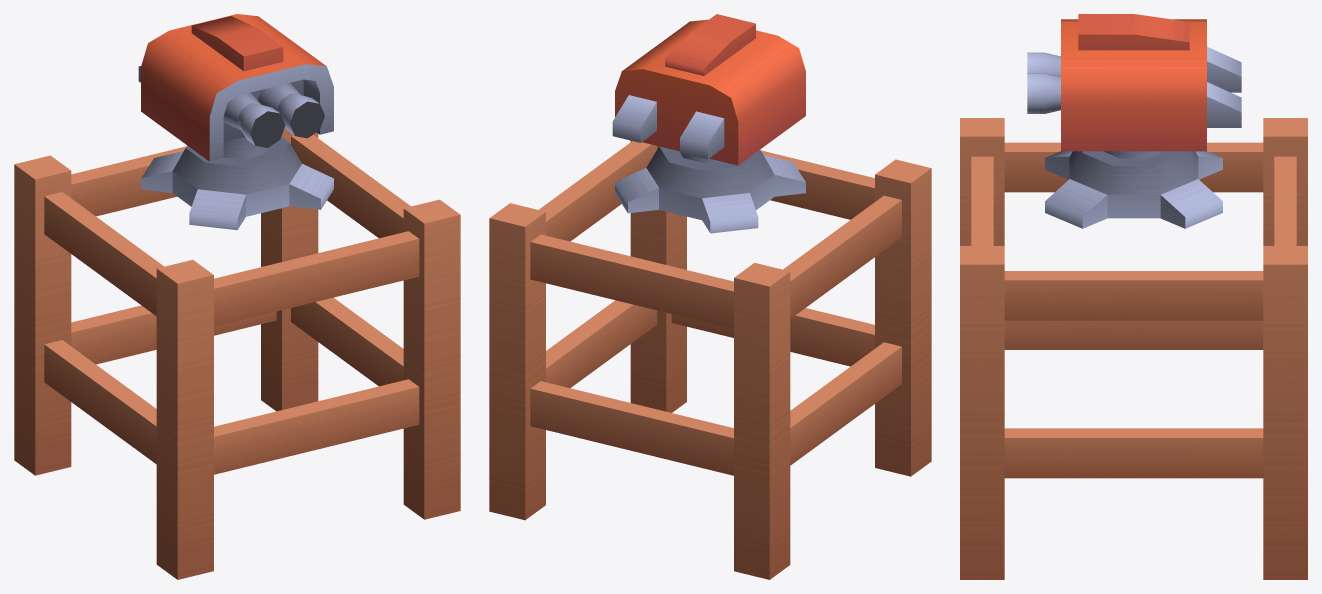
The model's file is tower_wood.glb.
3 views of the same model, side by side, from view 1: azimuth 30°, elevation 25°; view 2: azimuth 150°, elevation 25°; view 3: azimuth 270°, elevation 25° (orthographic). The views are drawn at different scales.
Parts seen in each view (by area): view 1: wood-structure-high_b; view 2: wood-structure-high_b; view 3: wood-structure-high_b.
Part boxes in pixels (left/top/right/bottom): wood-structure-high_b: left=14, top=14, right=460, bottom=579; wood-structure-high_b: left=489, top=14, right=931, bottom=579; wood-structure-high_b: left=960, top=14, right=1307, bottom=579.
Size of the model in its own units: 1.31 by 2 by 1.31.
Materials: 2 (2 with a texture image).
